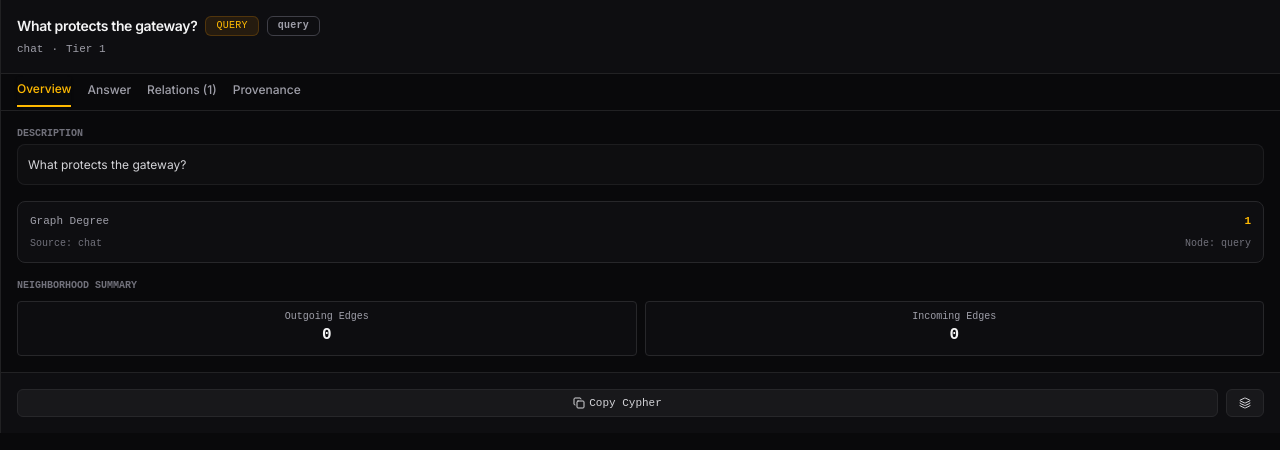
Test case: Step 7 Graph UI inspector › shows query answer, source and path on a Query node click
This screenshot has width=1280, height=450.
Press the mouse on the tab "Answer" at x=109, y=92, box [88,78,131,106]
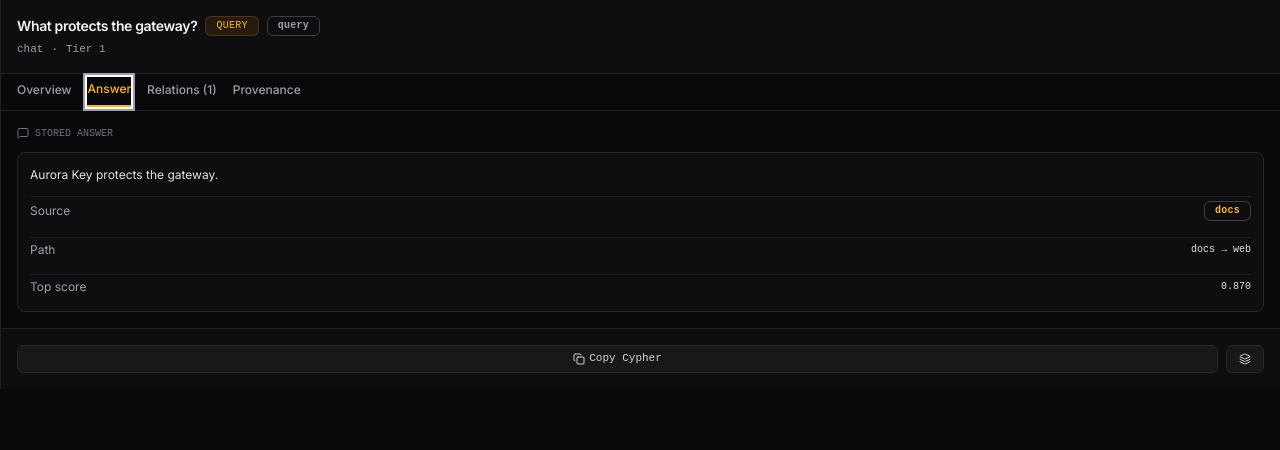
Expected: the text "Aurora Key protects the gateway." is shown, [30,167,218,182]
Expected: the text "docs → web" is shown, [1191,243,1251,256]
Expected: the text "0.870" is shown, [1221,280,1251,293]
